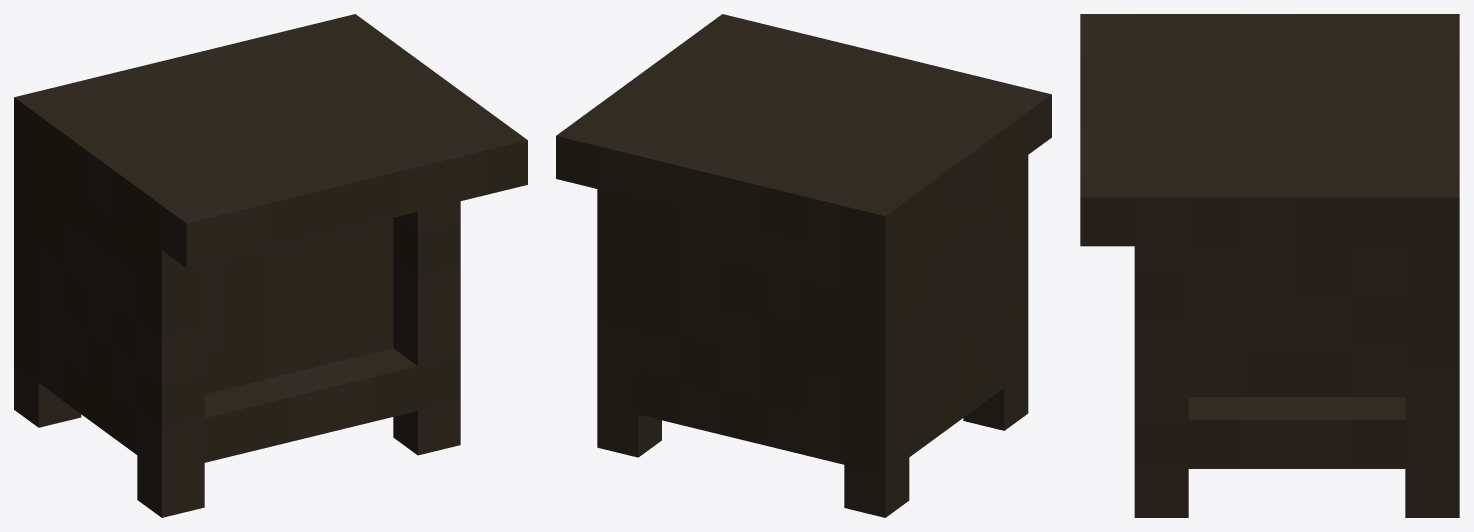
Rendered from tavern-24-barcorner.obj.
3 renders of one model, left to right at view 1: azimuth 30°, elevation 25°; view 2: azimuth 150°, elevation 25°; view 3: azimuth 270°, elevation 25°, orthographic. The views are drawn at different scales.
Visible parts, largest first — view 1: barcorner; view 2: barcorner; view 3: barcorner.
Part boxes in pixels (x1=…): barcorner: x1=14, y1=14, x2=527, y2=517; barcorner: x1=556, y1=14, x2=1051, y2=517; barcorner: x1=1080, y1=14, x2=1459, y2=517.
Size of the model in its own units: 0.8 by 0.7 by 0.7.
Materials: 1 (1 with a texture image).
